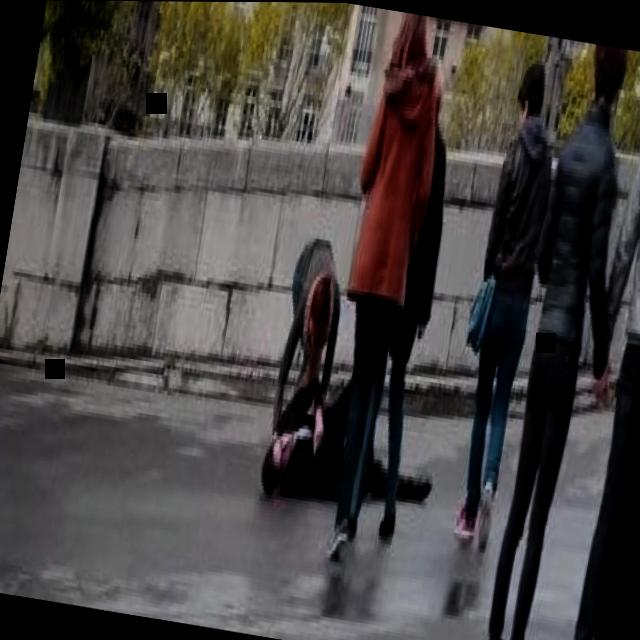Fall-Detected: (248, 326, 450, 531)
